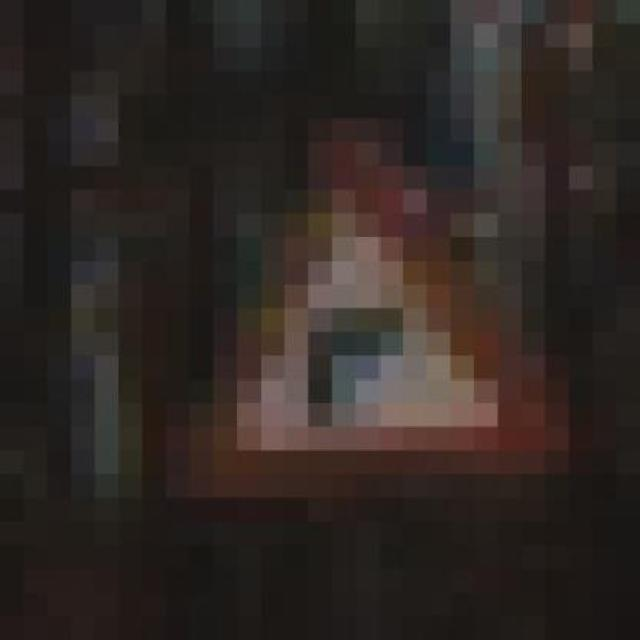Dangerous Rright Curve Ahead: (118, 71, 570, 498)
